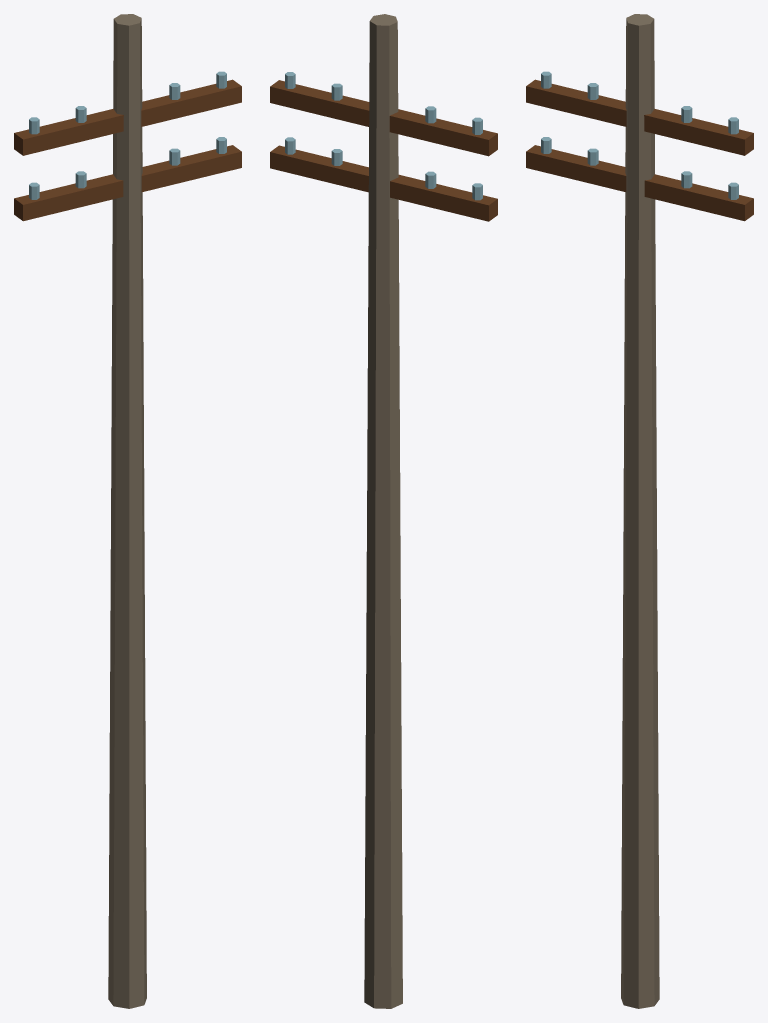
Rendered from SM_Telegraph_Pole.obj.
3 renders of one model, left to right at view 1: azimuth 30°, elevation 25°; view 2: azimuth 150°, elevation 25°; view 3: azimuth 330°, elevation 25°, orthographic.
Parts seen in each view (by area): view 1: SM_Telegraph_Pole; view 2: SM_Telegraph_Pole; view 3: SM_Telegraph_Pole.
Boxes of the visible parts, x1,y1,x2,y2 form: SM_Telegraph_Pole: [14, 14, 241, 1008]; SM_Telegraph_Pole: [270, 14, 497, 1008]; SM_Telegraph_Pole: [526, 14, 753, 1008].
Bounding box in the file's own units: 1.4 × 6 × 0.2091.
